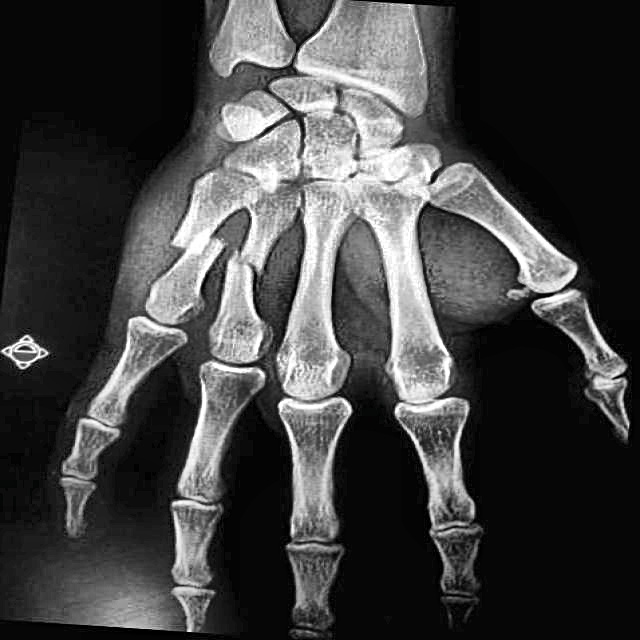Transverse: (154, 200, 227, 284)
Transverse Displaced: (213, 231, 294, 299)
